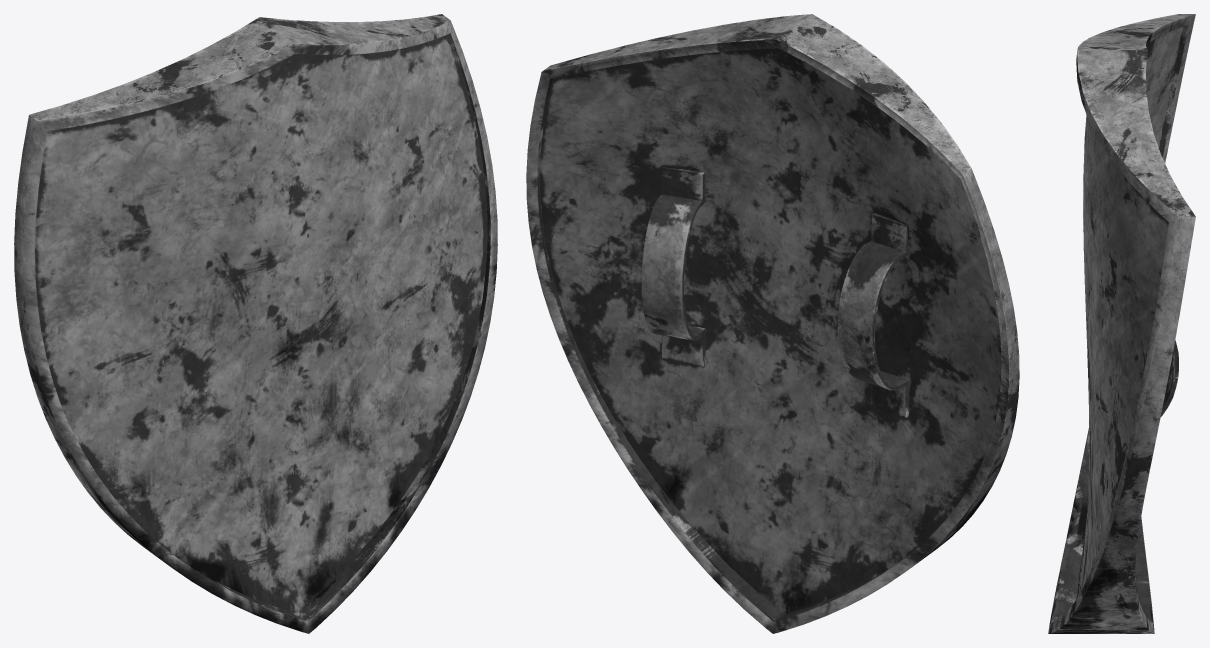
The model's file is shield01.fbx.
The picture shows the model from 3 angles, left to right: view 1: azimuth 30°, elevation 25°; view 2: azimuth 150°, elevation 25°; view 3: azimuth 270°, elevation 25°; orthographic projection.
Visible parts, largest first — view 1: shield01; view 2: shield01; view 3: shield01.
Part boxes in pixels (x1,y1,x2,y2): shield01: (14,14,497,633); shield01: (526,14,1019,633); shield01: (1048,14,1195,633).
Size of the model in its own units: 62.76 by 74.14 by 17.02.
